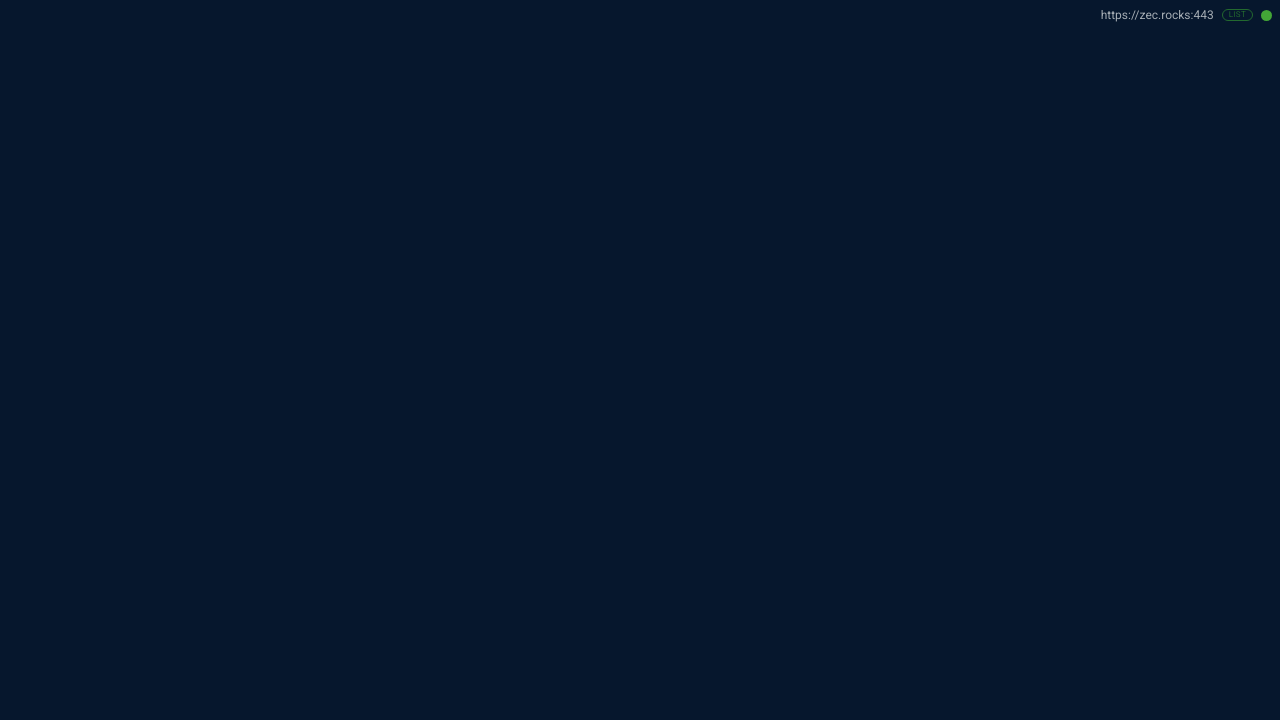
Test: list opens the picker in place, dot at 0
Click the button with aria-label "Active server health". click: coordinates (1157, 15)
box: [8,8,1272,22]
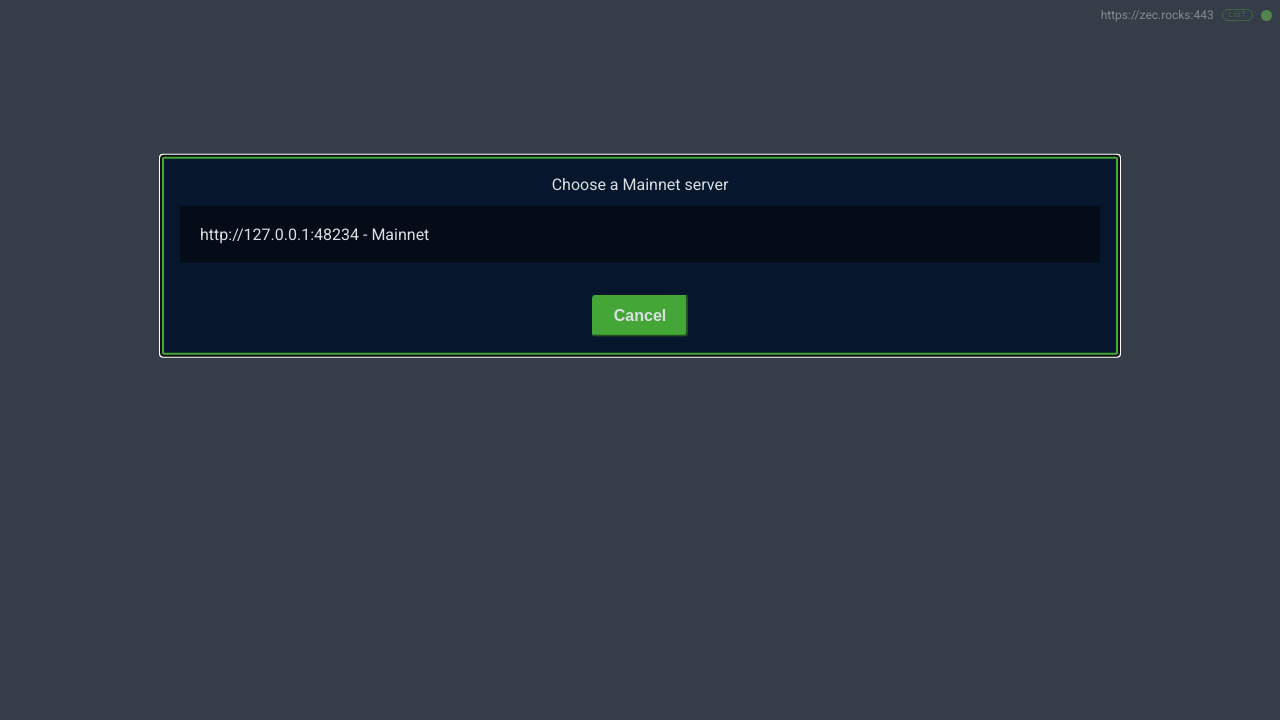
Check: the text "Choose a Mainnet server" is shown, box [552,175,728,194]
